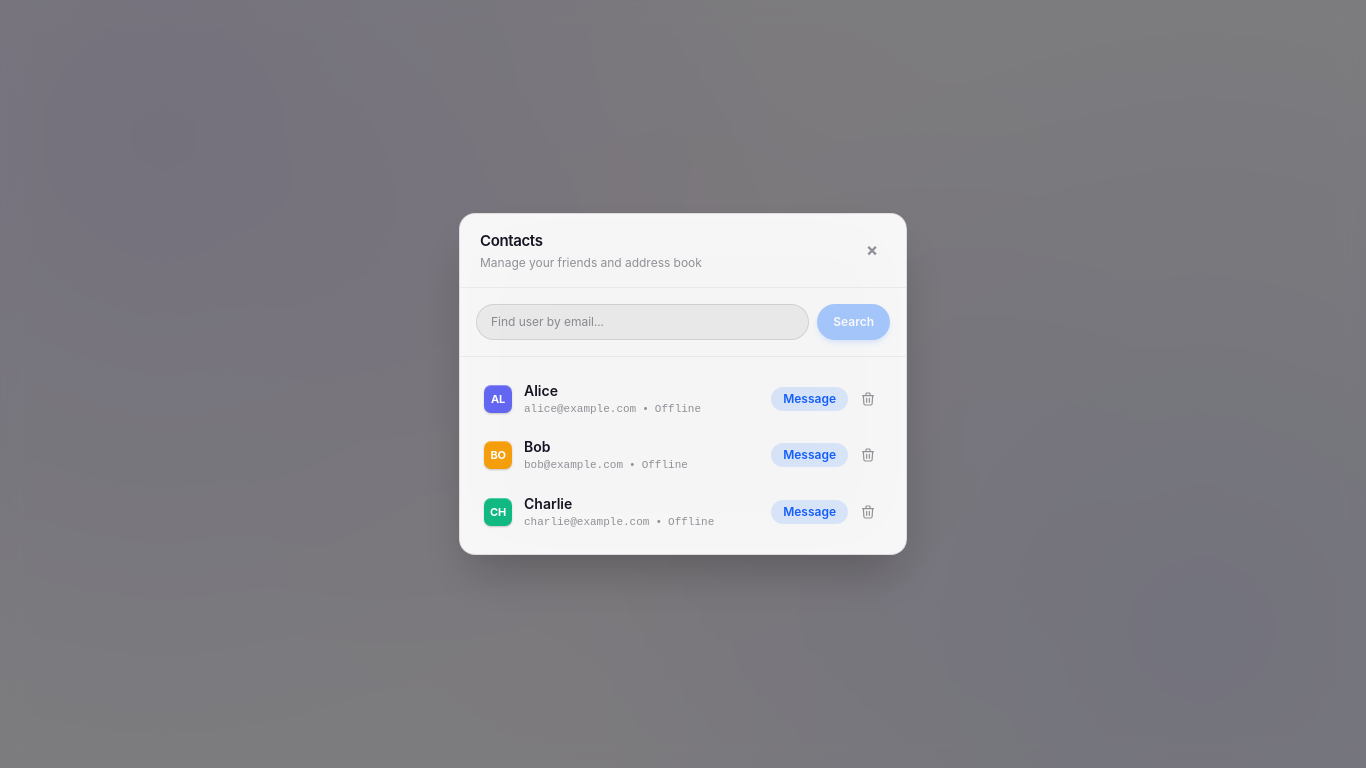
Test: ContactsModal.vue › shows error message when findUserByEmail returns null
This screenshot has width=1366, height=768.
Type "unknown@example.com" into the field with placeholder "Find user by email..." at [643, 322], box x1=476 y1=304 x2=809 y2=340
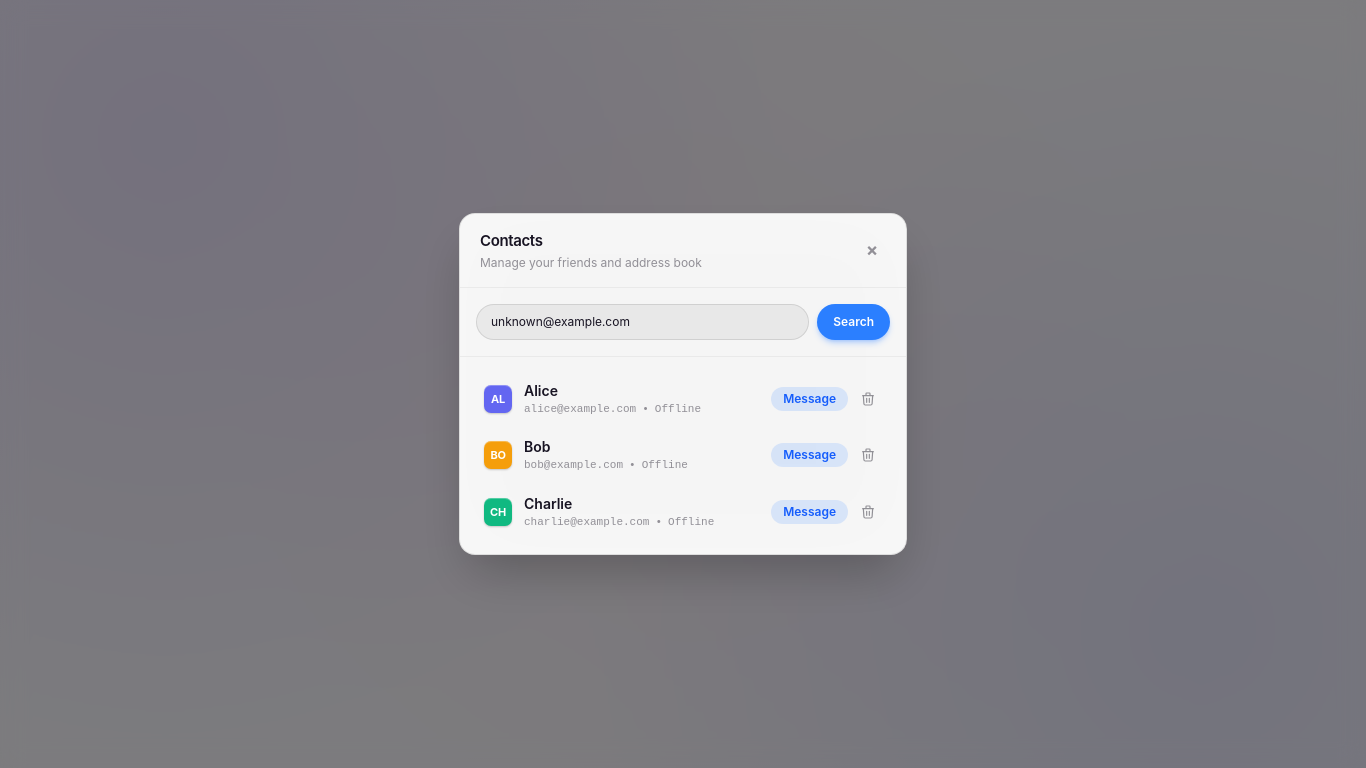
Submit the form, box x1=476 y1=304 x2=890 y2=340
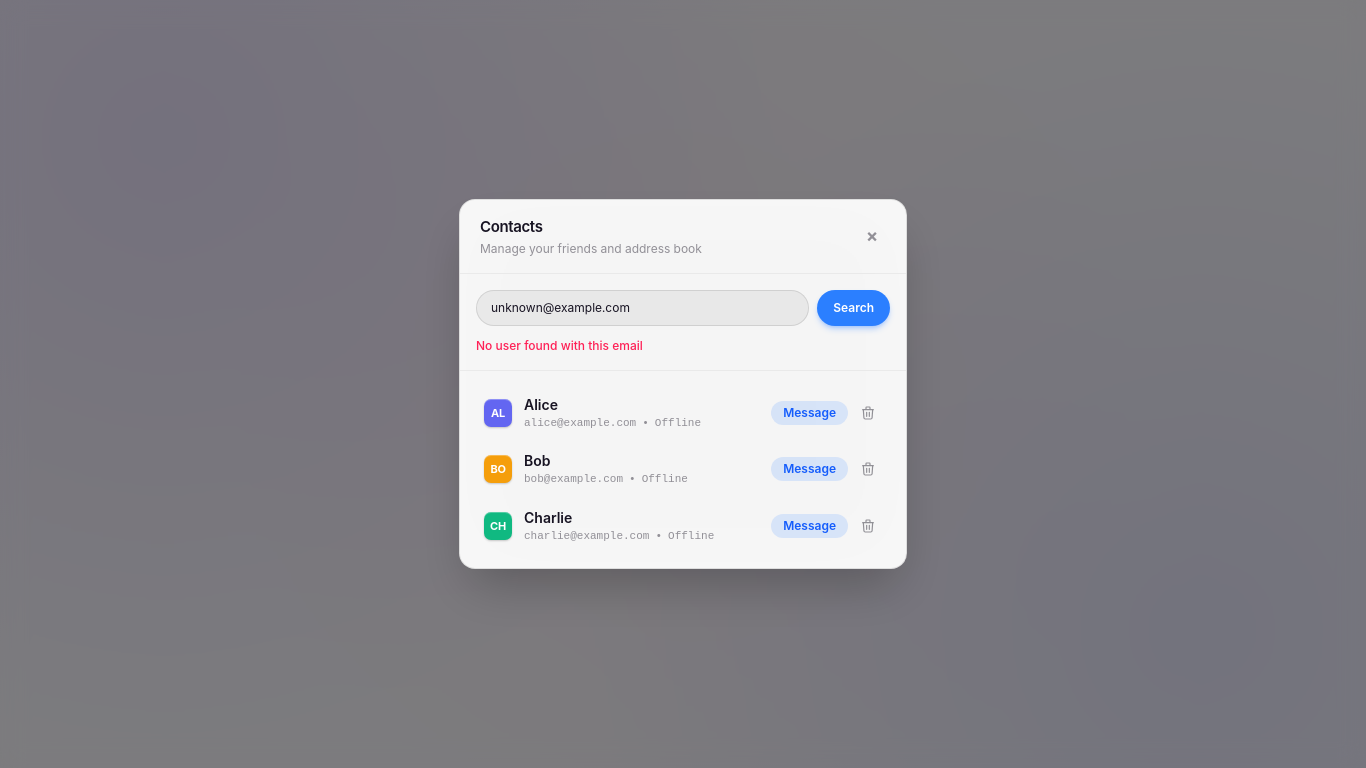
Expected: the text "No user found with this email" is shown, x1=476 y1=338 x2=643 y2=352
